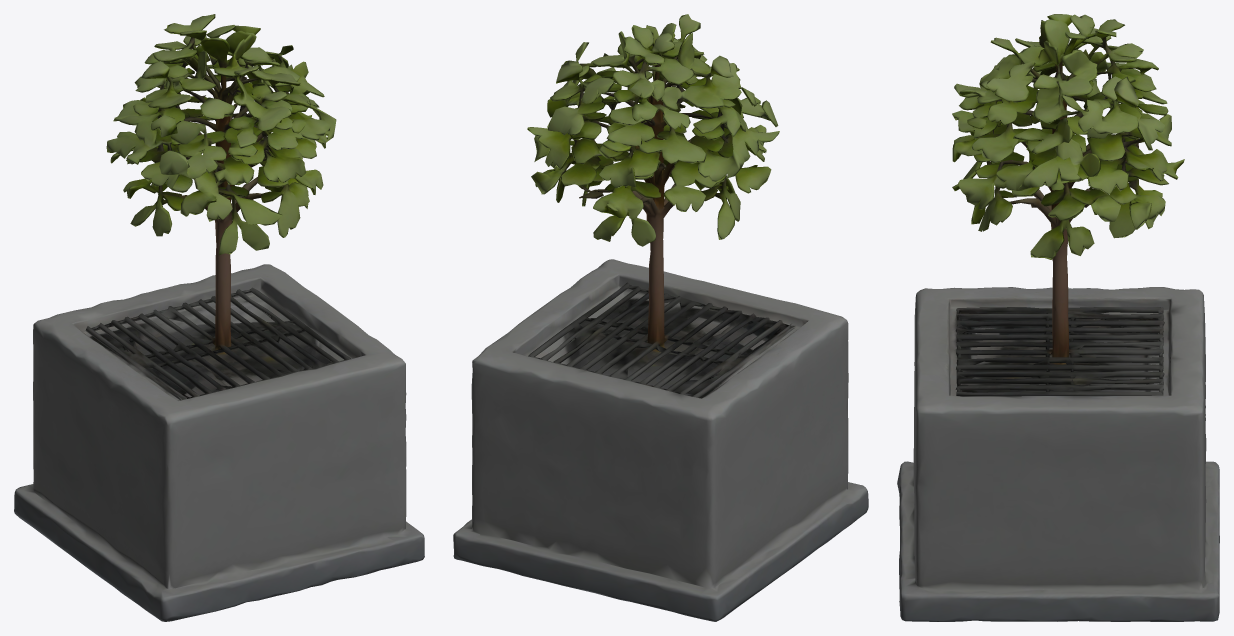
File: cafe-tree-pit.glb
3 views of the same model, side by side, from view 1: azimuth 30°, elevation 25°; view 2: azimuth 150°, elevation 25°; view 3: azimuth 270°, elevation 25° (orthographic). The views are drawn at different scales.
Visible parts, largest first — view 1: tripo_node_90353db3-2fb6-4c47-ab82-3566940fe7fb; view 2: tripo_node_90353db3-2fb6-4c47-ab82-3566940fe7fb; view 3: tripo_node_90353db3-2fb6-4c47-ab82-3566940fe7fb.
Boxes of the visible parts, left/top/right/bottom form: tripo_node_90353db3-2fb6-4c47-ab82-3566940fe7fb: left=14, top=14, right=424, bottom=621; tripo_node_90353db3-2fb6-4c47-ab82-3566940fe7fb: left=453, top=14, right=868, bottom=621; tripo_node_90353db3-2fb6-4c47-ab82-3566940fe7fb: left=897, top=14, right=1219, bottom=621.
Bounding box in the file's own units: 0.5481 × 1 × 0.5497.
1 material, 1 textured.
